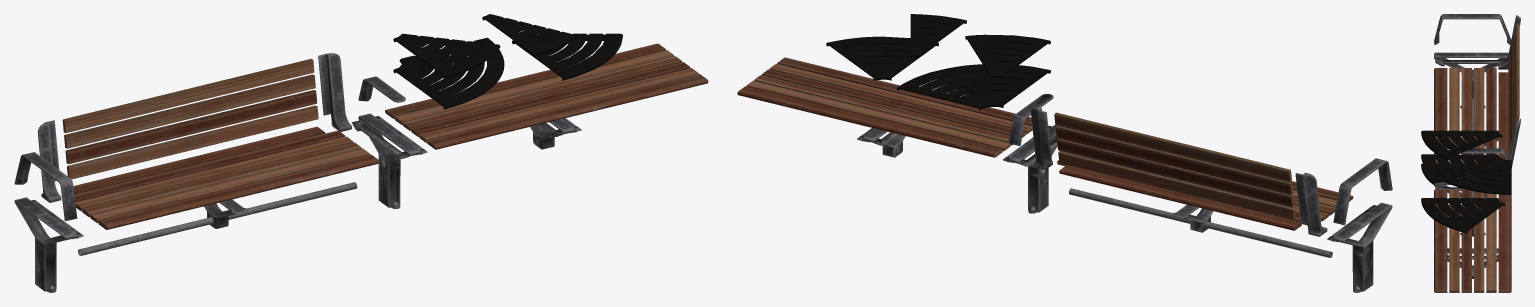
Rendered from modular_street_seating.glb.
3 views of the same model, side by side, from view 1: azimuth 30°, elevation 25°; view 2: azimuth 150°, elevation 25°; view 3: azimuth 270°, elevation 25° (orthographic). The views are drawn at different scales.
Parts seen in each view (by area): view 1: seat, seat_back, connector_60, legs_double, crossbar; view 2: seat, seat_back, connector_60, crossbar, legs_double; view 3: seat, connector_60, legs_double, crossbar, seat_back.
Part boxes in pixels (box(x1,y1,x2,y2)): seat: box(73, 43, 708, 229); seat_back: box(62, 59, 318, 179); connector_60: box(393, 14, 622, 109); legs_double: box(14, 113, 581, 292); crossbar: box(14, 53, 405, 255); seat: box(737, 57, 1353, 230); seat_back: box(1054, 112, 1295, 220); connector_60: box(826, 14, 1050, 110); crossbar: box(1009, 94, 1392, 257); legs_double: box(857, 125, 1392, 292); seat: box(1434, 68, 1511, 292); connector_60: box(1421, 130, 1511, 233); legs_double: box(1434, 52, 1508, 278); crossbar: box(1434, 14, 1520, 196); seat_back: box(1508, 24, 1519, 157).
Bounding box in the file's own units: 4.34 × 0.95 × 0.7704.
4 materials, 4 textured.
